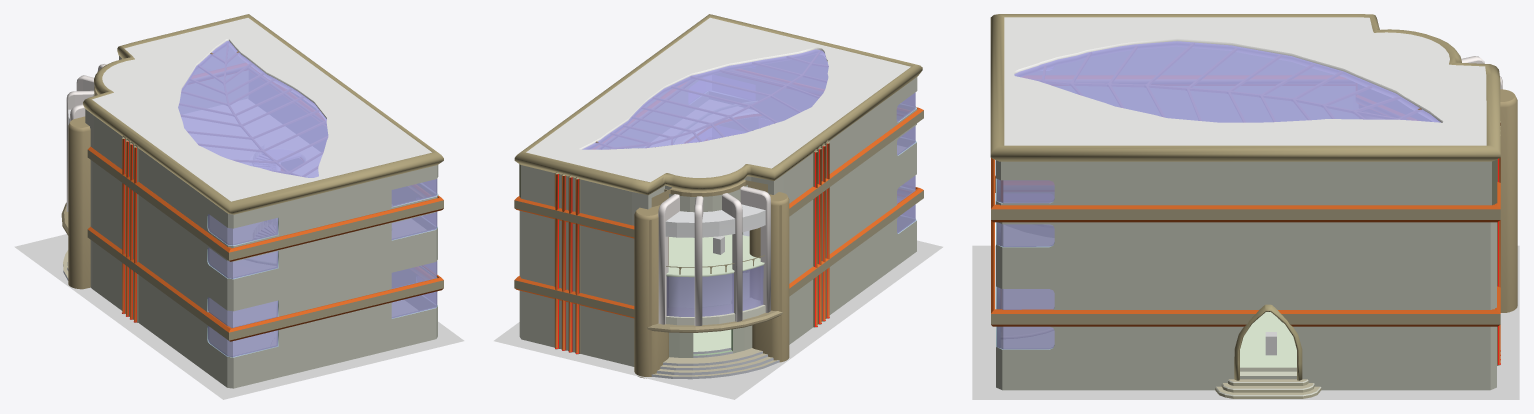
3 views of the same model, side by side, from view 1: azimuth 30°, elevation 25°; view 2: azimuth 150°, elevation 25°; view 3: azimuth 270°, elevation 25° (orthographic). The views are drawn at different scales.
Parts seen in each view (by area): view 1: Cube, Cylinder.003, Cylinder.008, Cylinder.004, Plane.002, Plane, Cube.009, Cube.003, Cube.004, Cylinder, Cube.005, Plane.001 (+3 smaller); view 2: Cube, Cylinder.003, Cylinder.008, Cylinder.004, Cylinder, Cube.004, Cube.005, Cube.002, Plane, Cube.003, Cube.009, Cylinder.001 (+5 smaller); view 3: Cube, Cylinder.003, Cylinder.004, Cylinder.008, Plane, Cube.003, Cube.009, Plane.002, Cylinder, Cube.007, Plane.001, Cube.011 (+5 smaller).
Part boxes in pixels (x1=…): Cube: x1=63, y1=71, x2=437, y2=388; Cylinder.003: x1=83, y1=14, x2=443, y2=214; Cylinder.008: x1=178, y1=40, x2=328, y2=177; Cylinder.004: x1=85, y1=46, x2=438, y2=248; Plane.002: x1=208, y1=179, x2=437, y2=357; Plane: x1=14, y1=234, x2=464, y2=399; Cube.009: x1=87, y1=226, x2=443, y2=341; Cube.003: x1=87, y1=146, x2=443, y2=261; Cube.004: x1=182, y1=99, x2=425, y2=277; Cylinder: x1=68, y1=116, x2=90, y2=289; Cube.005: x1=122, y1=135, x2=138, y2=322; Plane.001: x1=179, y1=43, x2=327, y2=176; Cube: x1=519, y1=73, x2=916, y2=379; Cylinder.003: x1=514, y1=14, x2=922, y2=195; Cylinder.008: x1=582, y1=49, x2=828, y2=149; Cylinder.004: x1=519, y1=55, x2=917, y2=225; Cylinder: x1=634, y1=192, x2=789, y2=378; Cube.004: x1=651, y1=100, x2=904, y2=316; Cube.005: x1=554, y1=140, x2=829, y2=354; Cube.002: x1=658, y1=186, x2=770, y2=325; Plane: x1=494, y1=240, x2=942, y2=399; Cube.003: x1=514, y1=107, x2=923, y2=238; Cube.009: x1=514, y1=140, x2=923, y2=318; Cylinder.001: x1=647, y1=298, x2=782, y2=332; Cube: x1=996, y1=86, x2=1496, y2=390; Cylinder.003: x1=990, y1=14, x2=1500, y2=161; Cylinder.004: x1=995, y1=47, x2=1497, y2=205; Cylinder.008: x1=1014, y1=41, x2=1440, y2=122; Plane: x1=972, y1=245, x2=1519, y2=399; Cube.003: x1=991, y1=158, x2=1500, y2=222; Cube.009: x1=991, y1=175, x2=1500, y2=326; Plane.002: x1=997, y1=179, x2=1054, y2=349; Cylinder: x1=1362, y1=89, x2=1517, y2=312; Cube.007: x1=1001, y1=76, x2=1417, y2=200; Plane.001: x1=1033, y1=43, x2=1421, y2=121; Cube.011: x1=1215, y1=379, x2=1321, y2=398.
Size of what is drawn, in the model's own units: 32 by 24.01 by 48.
3 materials, 3 textured.
